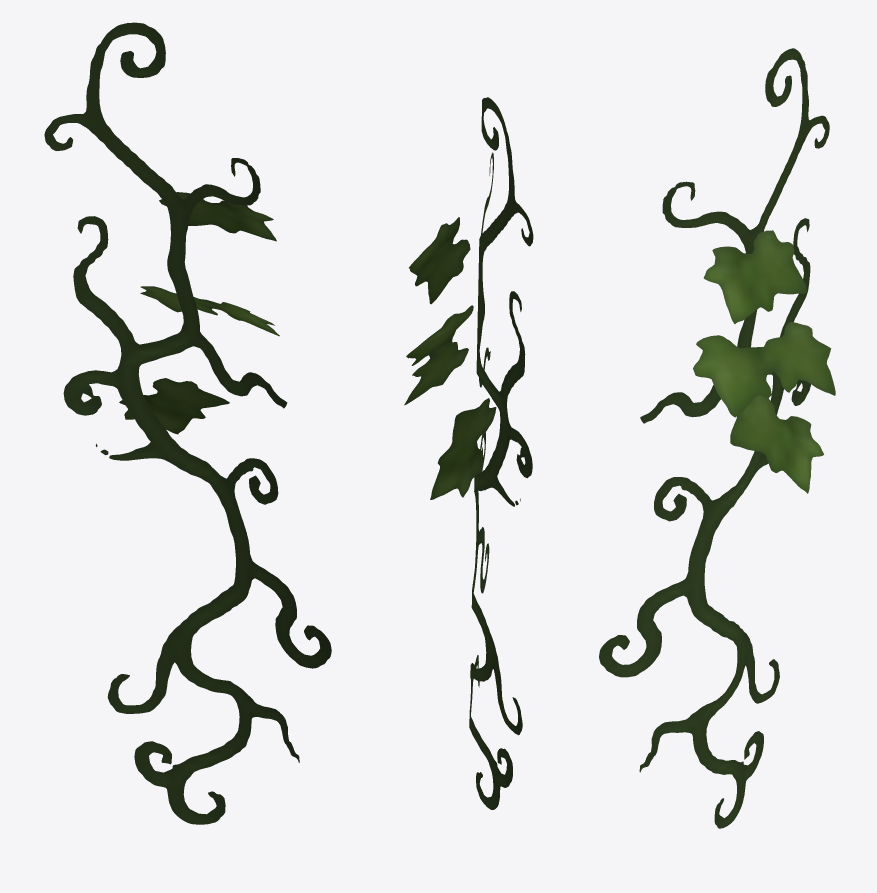
File: Ivy5.fbx
3 renders of one model, left to right at view 1: azimuth 30°, elevation 25°; view 2: azimuth 150°, elevation 25°; view 3: azimuth 270°, elevation 25°, orthographic. The views are drawn at different scales.
Parts seen in each view (by area): view 1: Ivy5; view 2: Ivy5; view 3: Ivy5.
Boxes of the visible parts, x1,y1,x2,y2 form: Ivy5: (44,22,331,824); Ivy5: (404,97,533,809); Ivy5: (599,48,835,828).
Size of the model in its own units: 91.7 by 323 by 104.
1 material, 1 textured.
